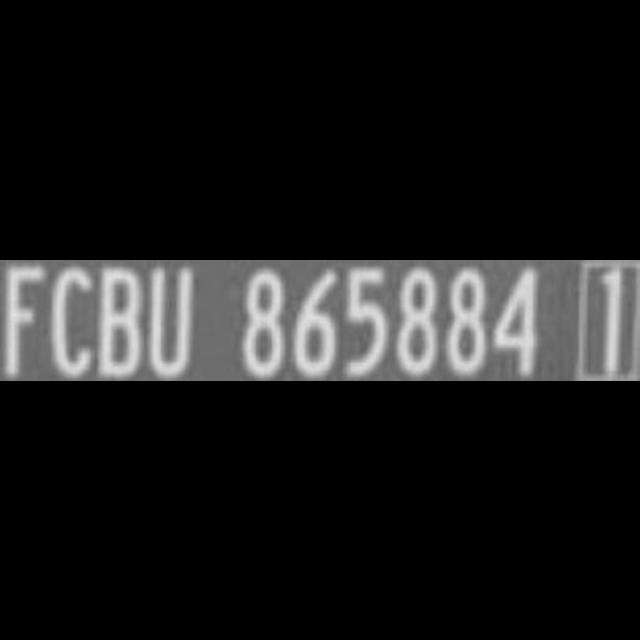1: (584, 260, 640, 380)
4: (490, 260, 544, 380)
5: (342, 260, 392, 380)
6: (291, 260, 341, 380)
8: (234, 260, 290, 380), (394, 260, 442, 380), (443, 260, 489, 380)
b: (95, 260, 151, 380)
c: (48, 260, 100, 380)
f: (1, 260, 51, 380)
u: (150, 260, 200, 380)
